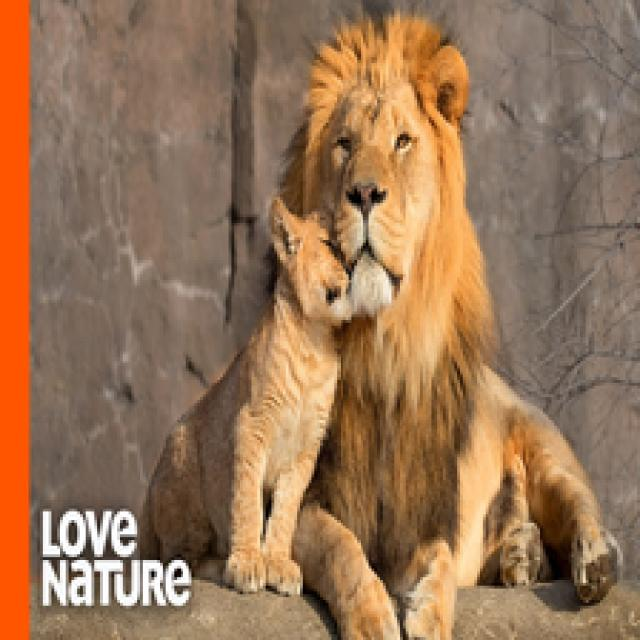lion: (258, 0, 640, 640), (150, 191, 375, 604)
